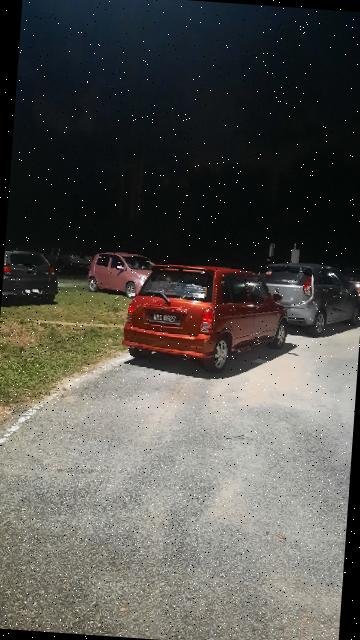License_Plate: (146, 311, 183, 330)
car: (122, 256, 295, 375)
